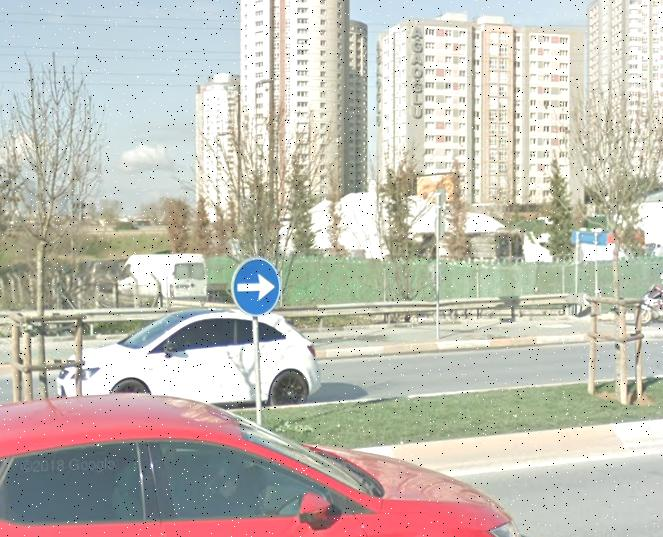turnright: (232, 258, 279, 313)
